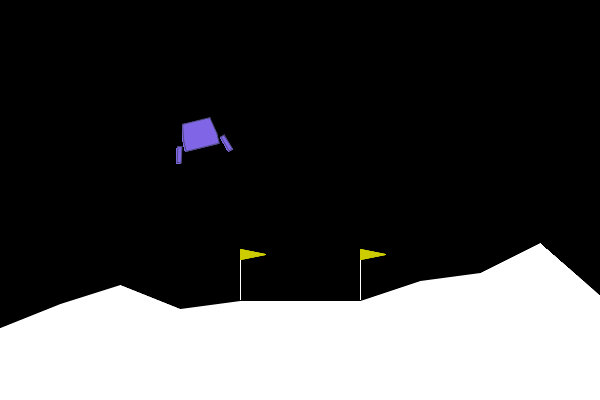lander: (166, 112, 234, 165)
